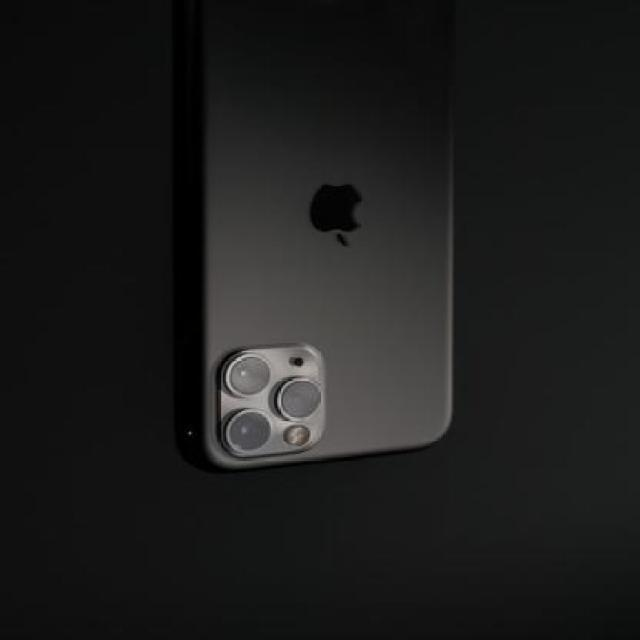phone: (190, 3, 456, 480)
